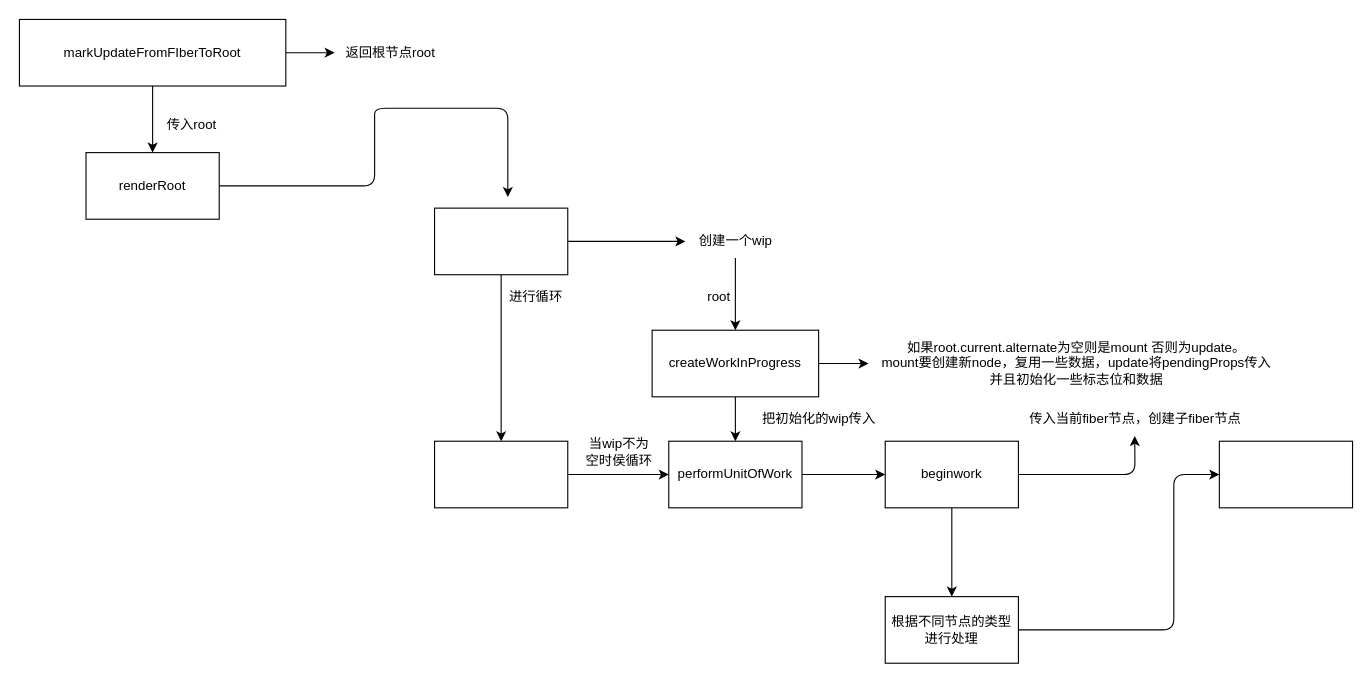
This 1372x683 diagram has some shape labels left out. Each missing label, with the box of its shape:
HostRoot: (1218, 440, 1353, 508)
prepareFreshStack: (433, 207, 568, 275)
workLoop: (433, 440, 568, 508)
